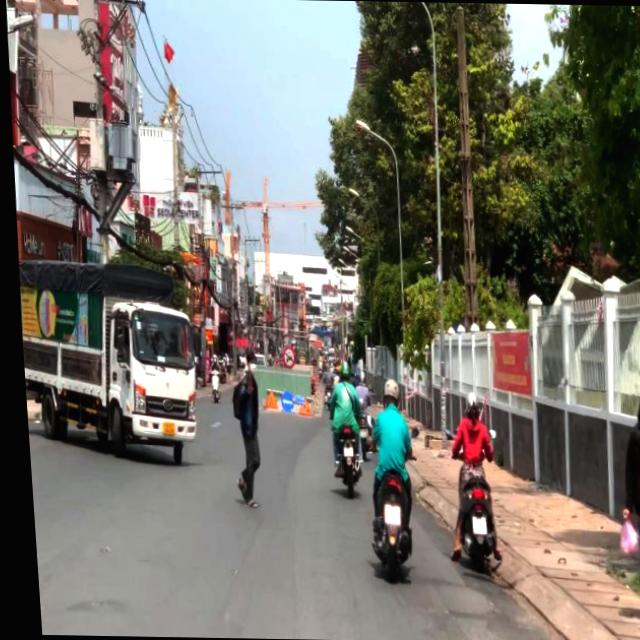Cac xe chi duoc re trai: (275, 388, 288, 414)
Cam xe oto: (278, 344, 290, 368)
